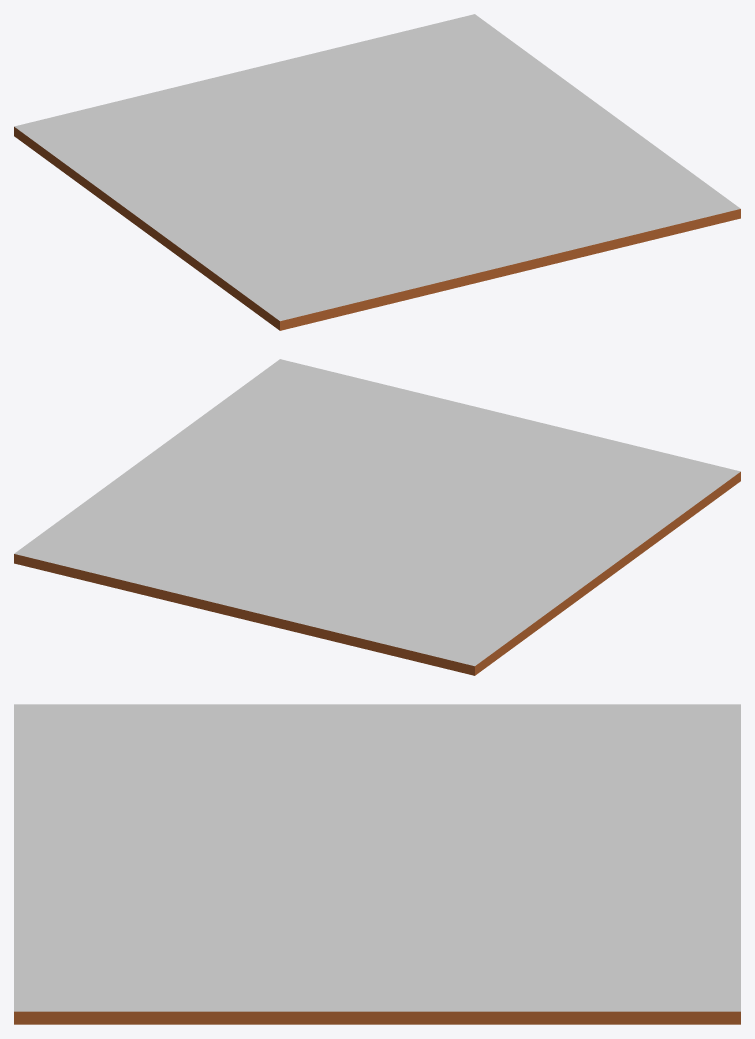
The model's file is ExportedBlenderFBXFile.fbx.
The picture shows the model from 3 angles, top to bottom: view 1: azimuth 30°, elevation 25°; view 2: azimuth 150°, elevation 25°; view 3: azimuth 270°, elevation 25°; orthographic projection. The views are drawn at different scales.
Parts seen in each view (by area): view 1: Cube; view 2: Cube; view 3: Cube.
Part boxes in pixels (box(x1,y1,x2,y2)): Cube: box(14, 14, 740, 330); Cube: box(14, 359, 740, 675); Cube: box(14, 704, 740, 1024).
Bounding box in the file's own units: 10 × 0.4543 × 10.
